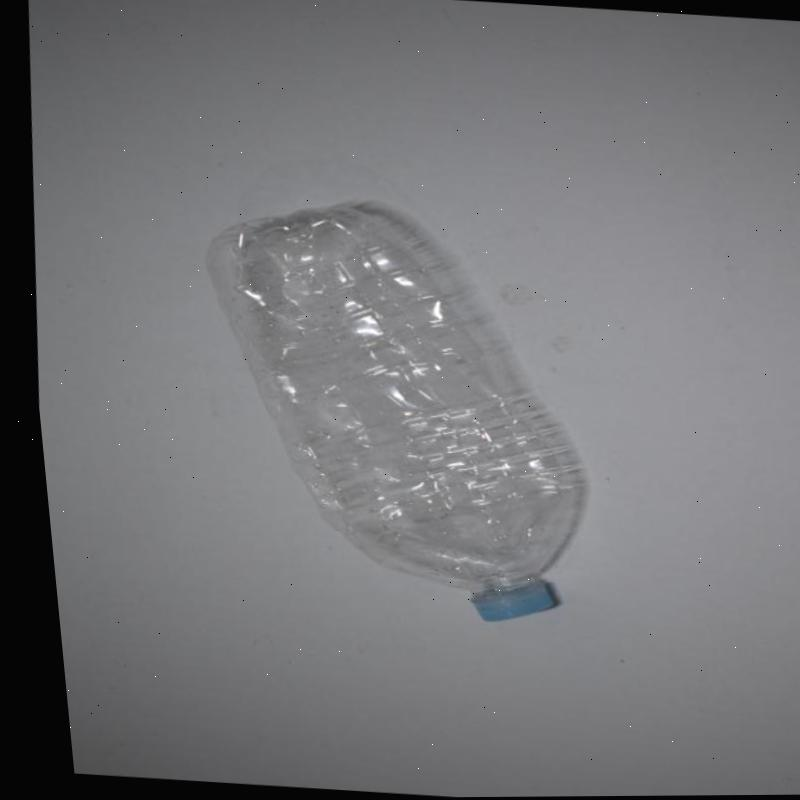botella: (168, 194, 611, 634)
